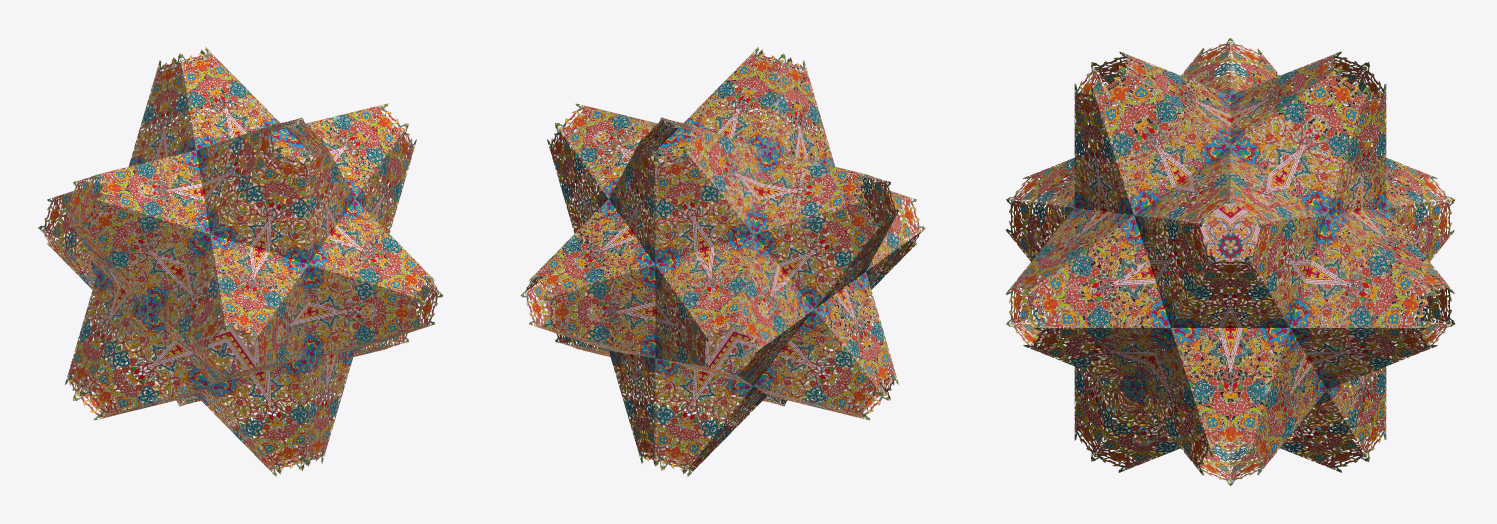
The model's file is SmallStellatedDodecahedron4.obj.
The picture shows the model from 3 angles, left to right: view 1: azimuth 30°, elevation 25°; view 2: azimuth 150°, elevation 25°; view 3: azimuth 270°, elevation 25°; orthographic projection. The views are drawn at different scales.
Size of the model in its own units: 1 by 1 by 1.
Materials: 1 (1 with a texture image).
